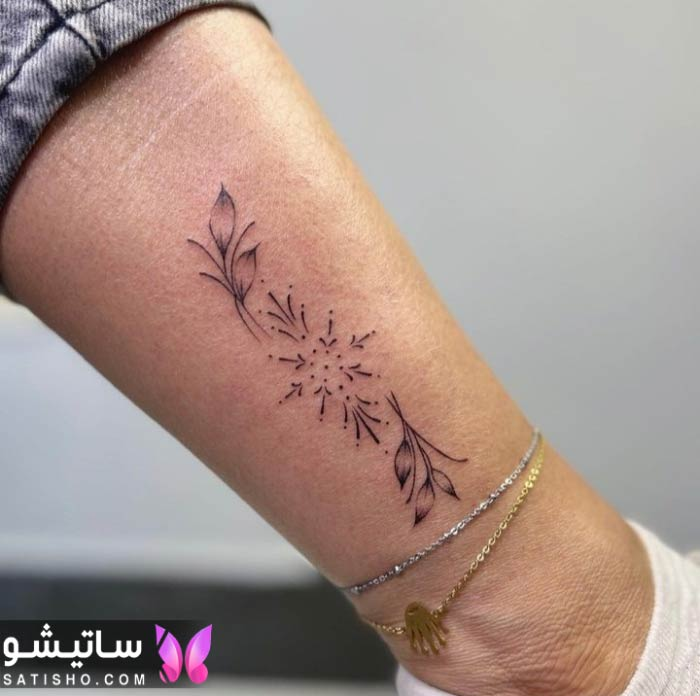Table: (93, 243, 163, 368)
